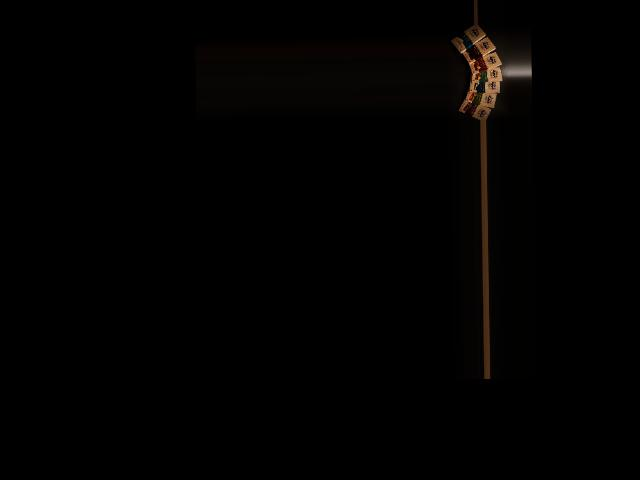chocolate: (448, 24, 487, 53)
